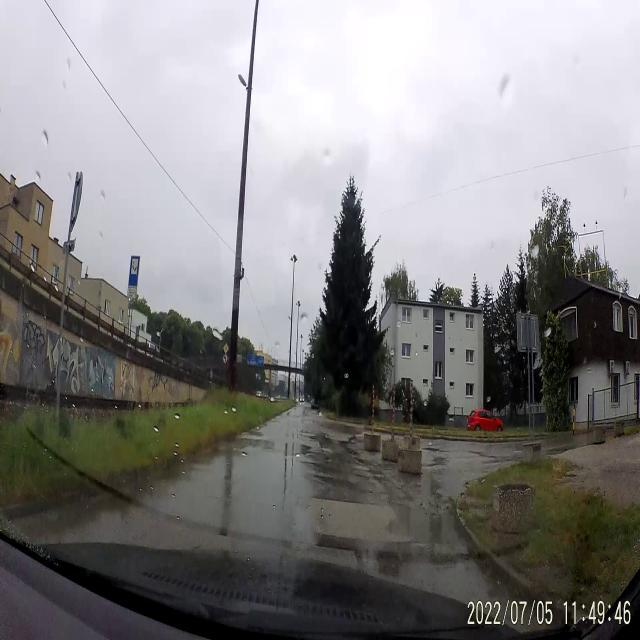Pothole: (313, 531, 363, 552)
